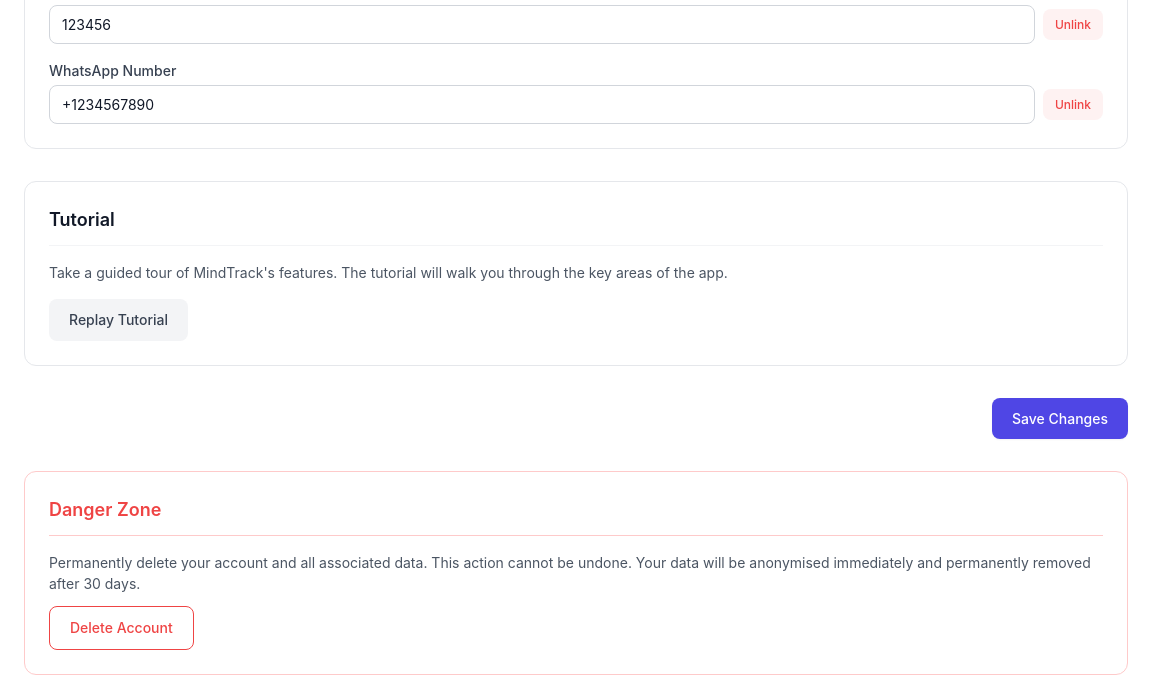
Test case: ProfileView › shows an error when account deletion fails
The image size is (1152, 695).
(page scrolled)
Click the button "Delete Account".
click(121, 628)  # box [49,606,194,650]
(page scrolled)
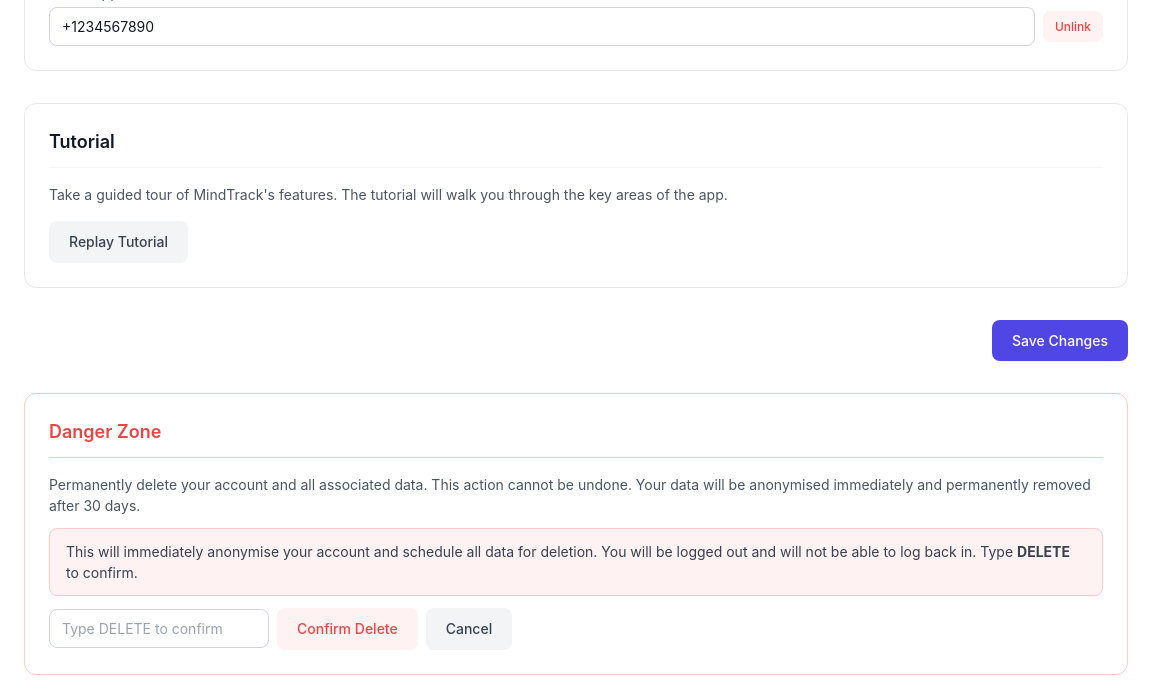
Type "DELETE" into the field with class "delete-confirm-input".
click(159, 629); type("DELETE")  # box [49,609,269,648]
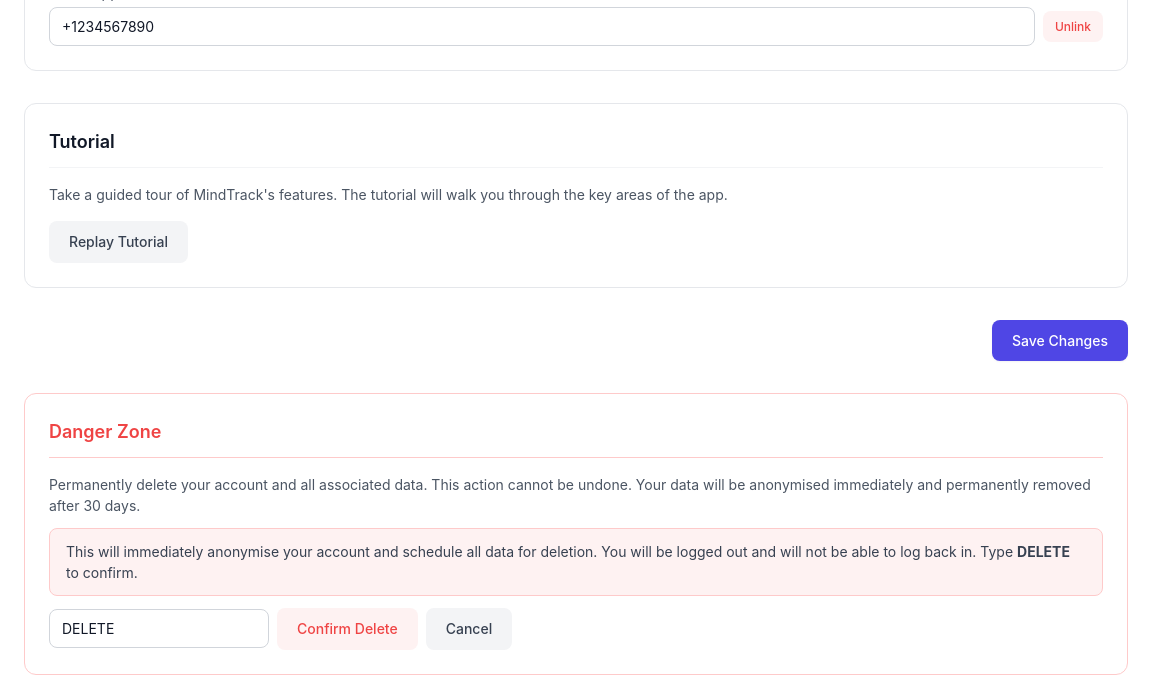
Click the button with class "btn-danger" showing "Confirm Delete".
click(347, 629)  # box [277,608,418,650]
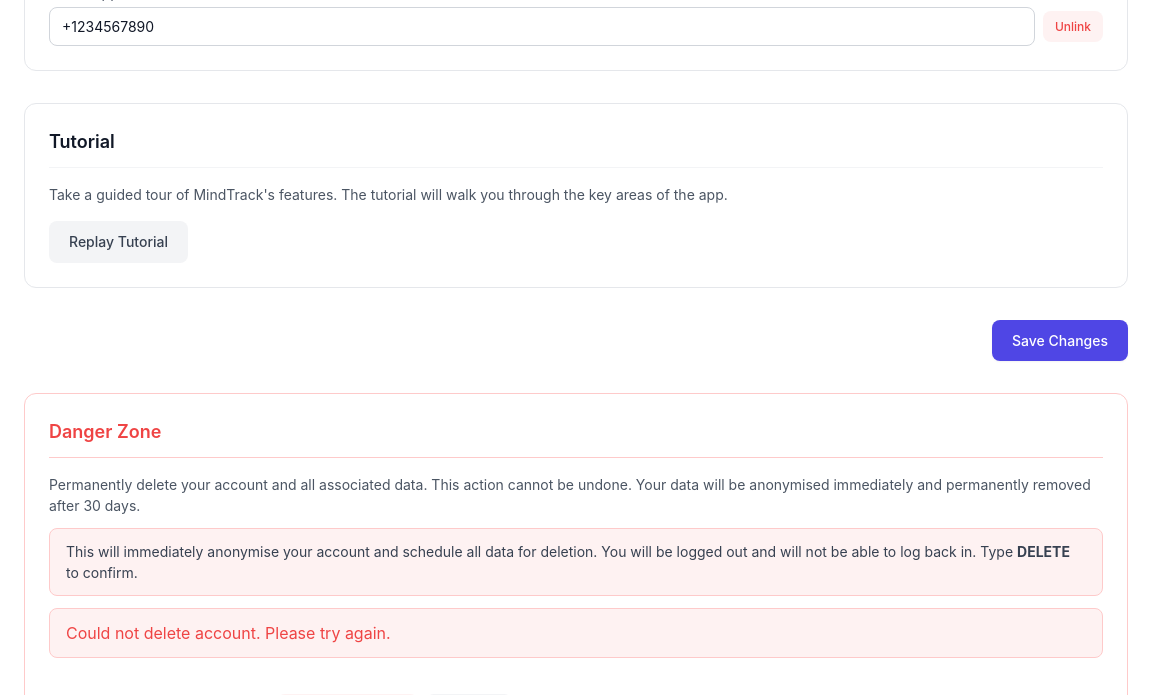
Expected: the text "Could not delete account" is shown, [66,623,391,643]
